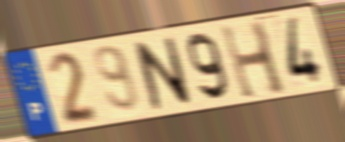2: (46, 50, 101, 129)
4: (285, 14, 326, 90)
9: (95, 43, 144, 120), (187, 31, 231, 103)
H: (217, 18, 290, 102)
N: (131, 35, 195, 113)
